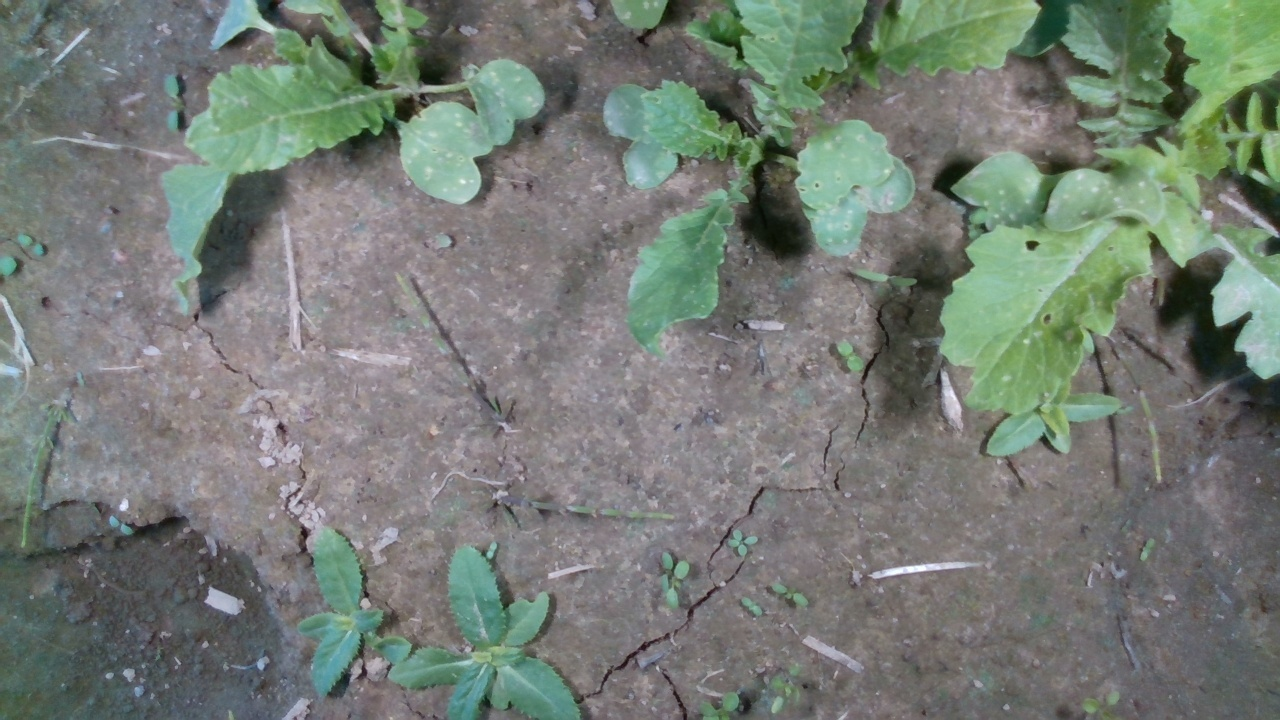weed: (162, 72, 181, 137), (768, 579, 809, 608), (834, 338, 865, 372), (725, 529, 759, 557), (108, 515, 134, 537), (740, 595, 763, 617), (1138, 537, 1155, 563)
